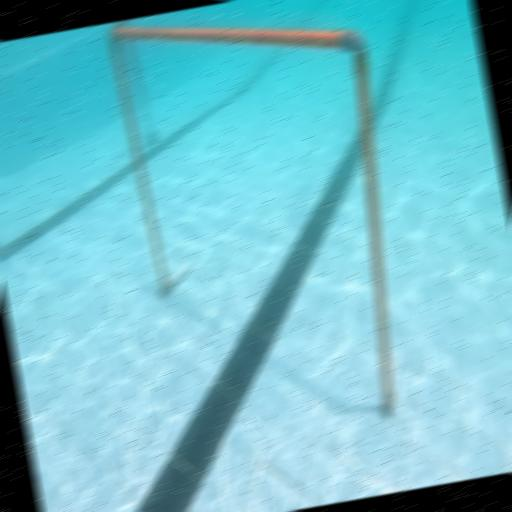gate: (104, 0, 430, 452)
